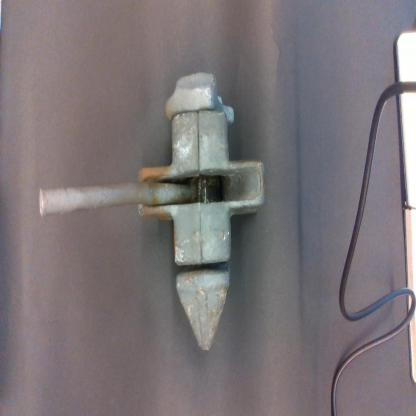Twistlock: (36, 67, 273, 359)
